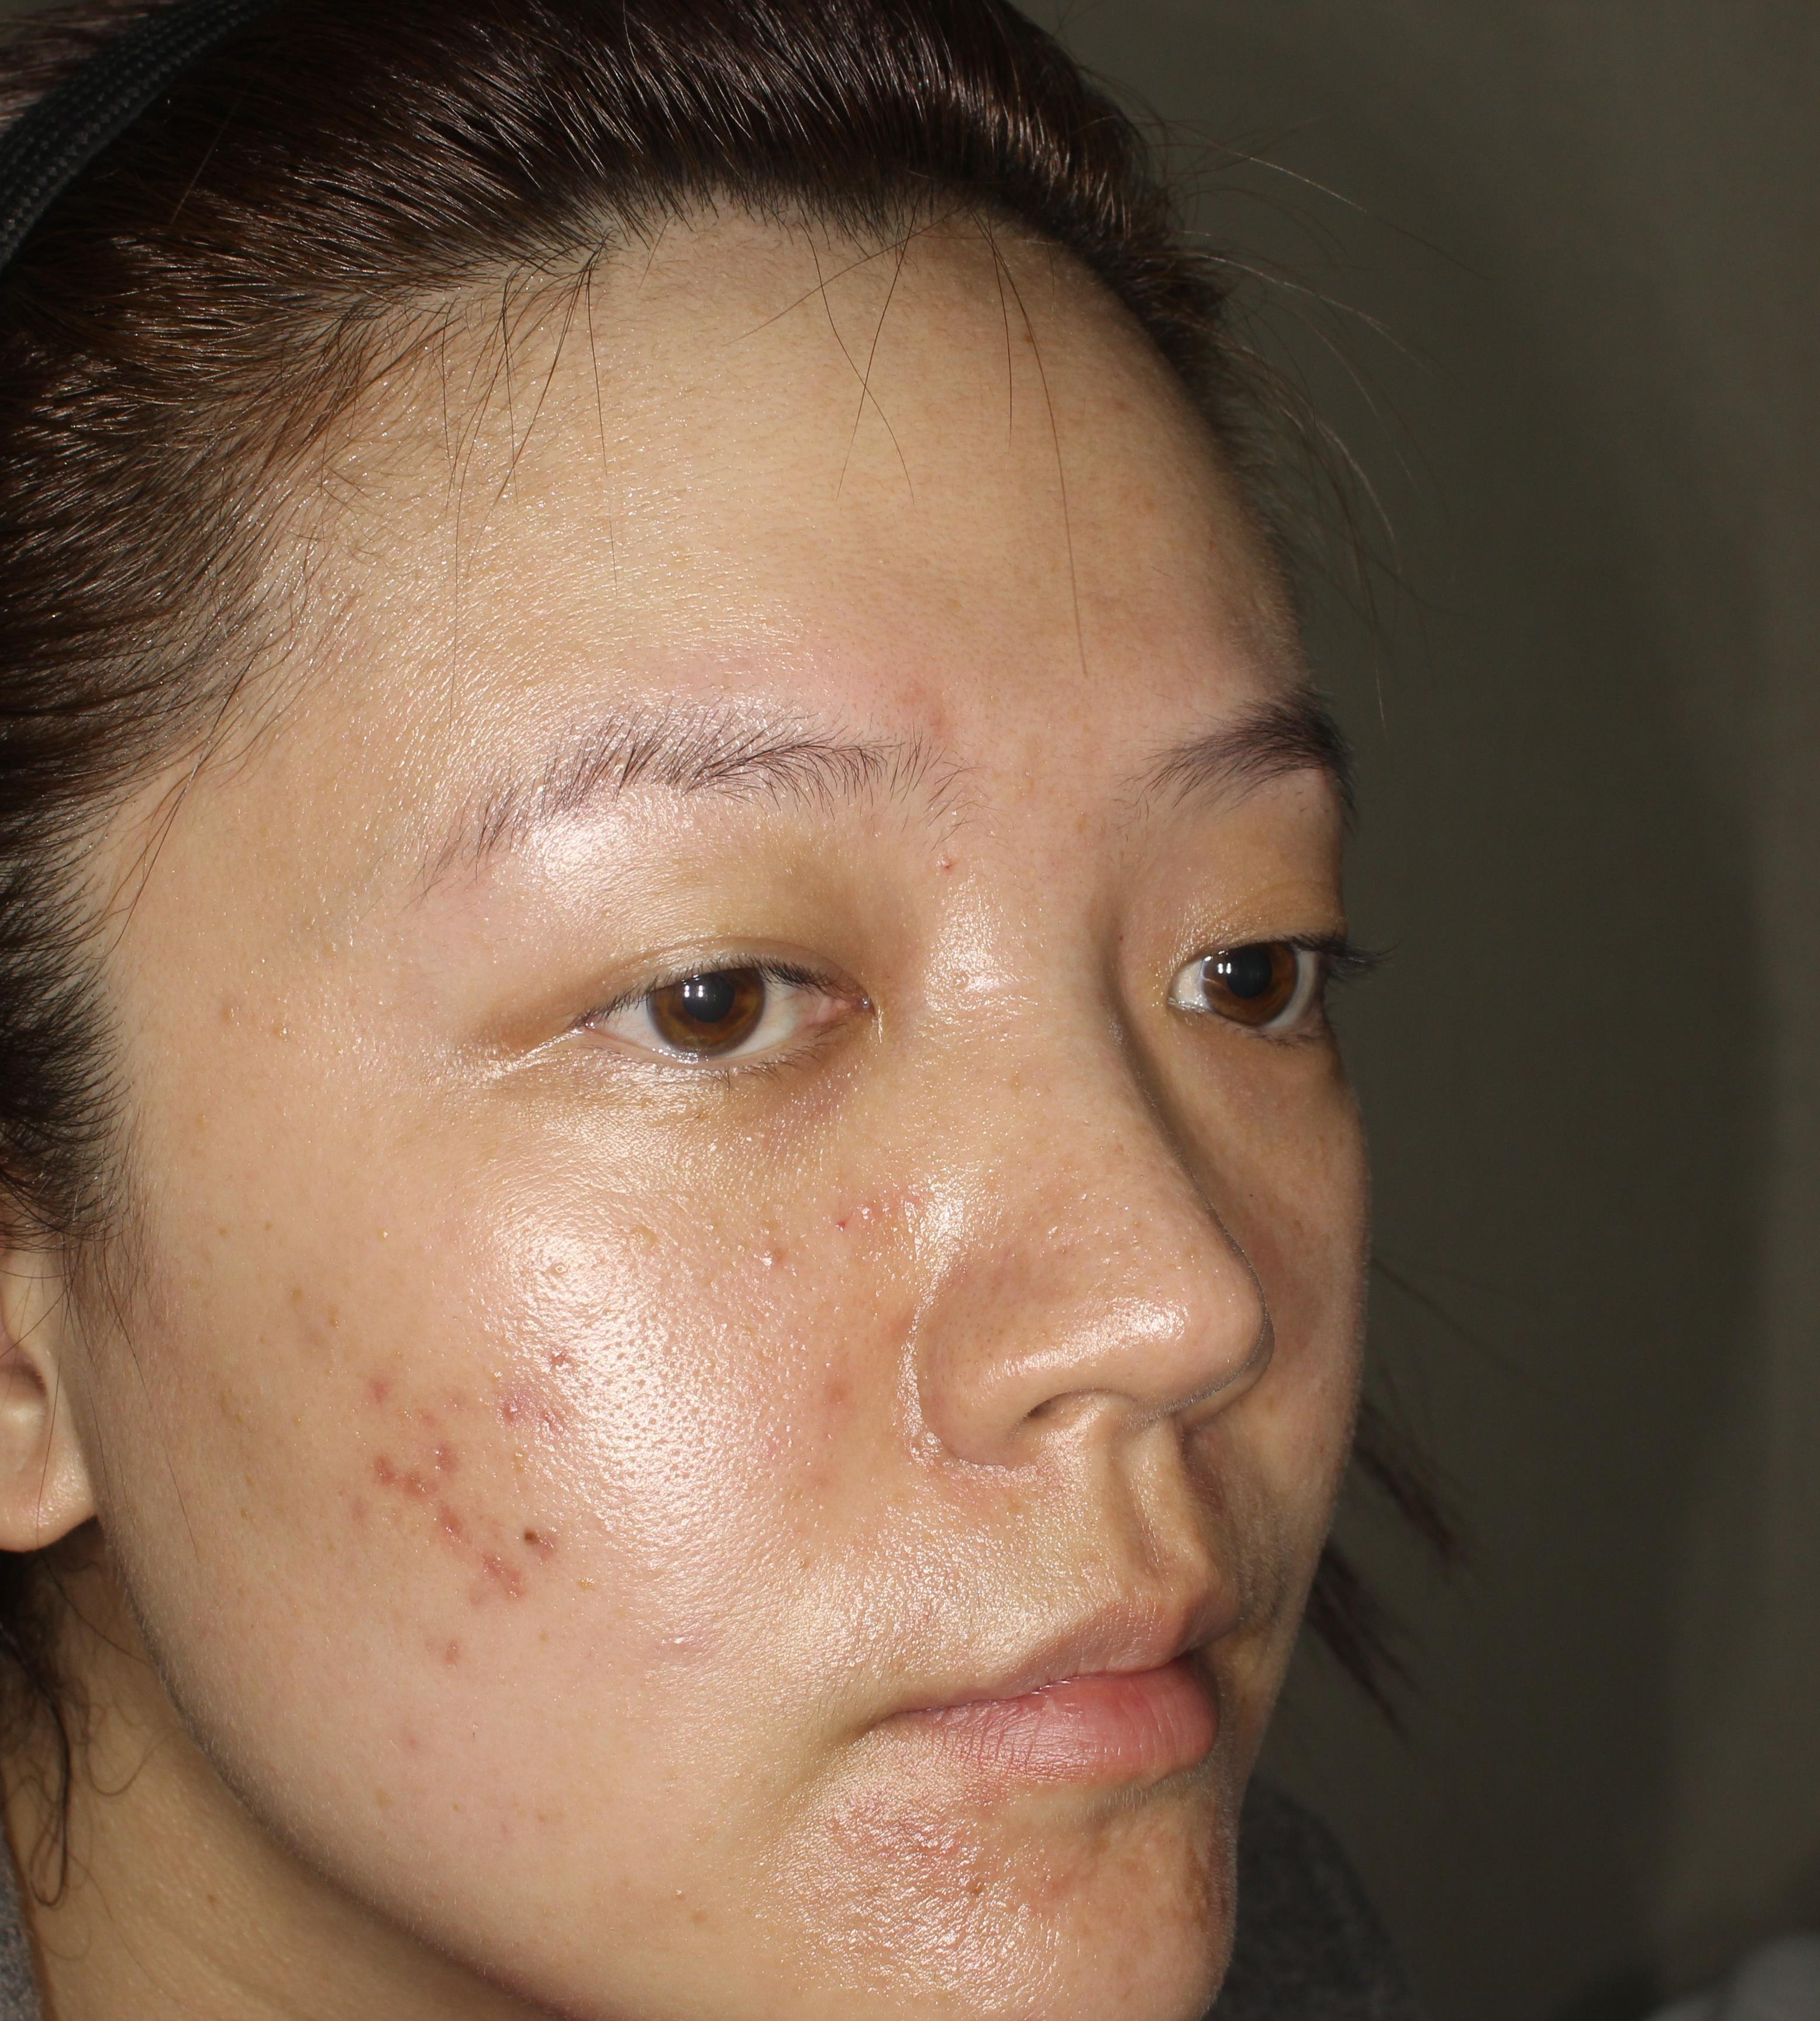fore: (471, 1549, 539, 1626), (364, 1447, 418, 1531), (430, 1482, 476, 1563), (794, 1347, 857, 1401), (418, 1387, 462, 1464), (351, 1356, 395, 1424)
